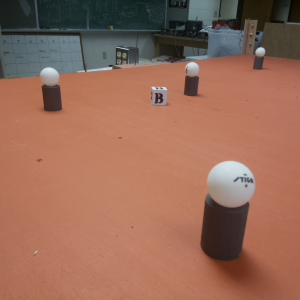blockB: (148, 85, 169, 107)
corner: (240, 17, 261, 47)
obstacle: (200, 159, 258, 261), (39, 65, 66, 116), (182, 61, 203, 98), (253, 48, 267, 70)
